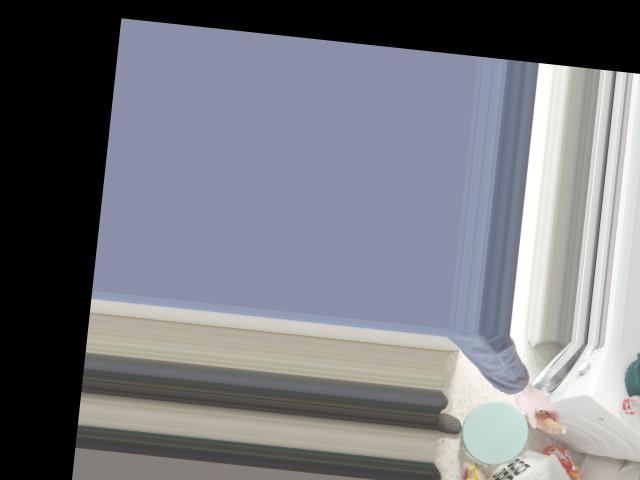sweet_potato: (513, 400, 567, 434)
